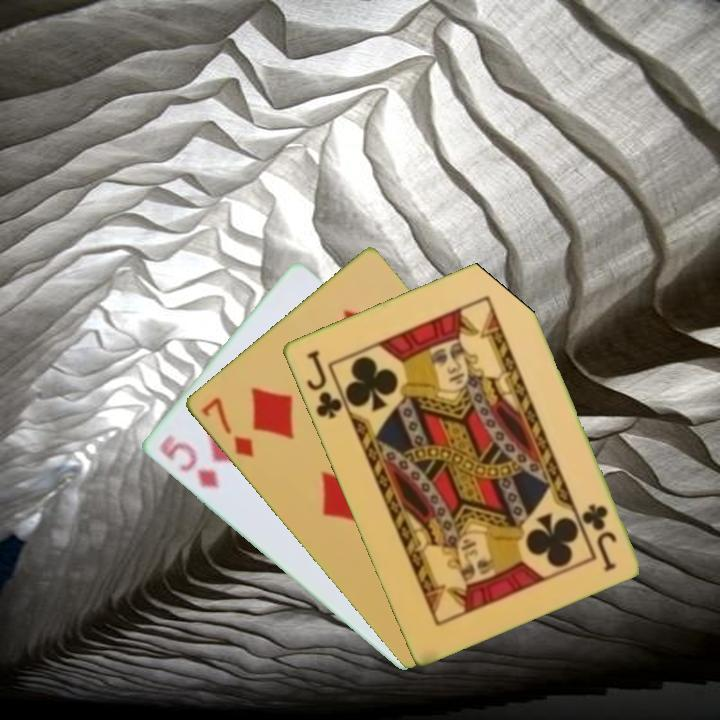5d: (155, 431, 221, 492)
7d: (197, 393, 256, 460)
Jc: (302, 346, 345, 422), (578, 499, 619, 574)
